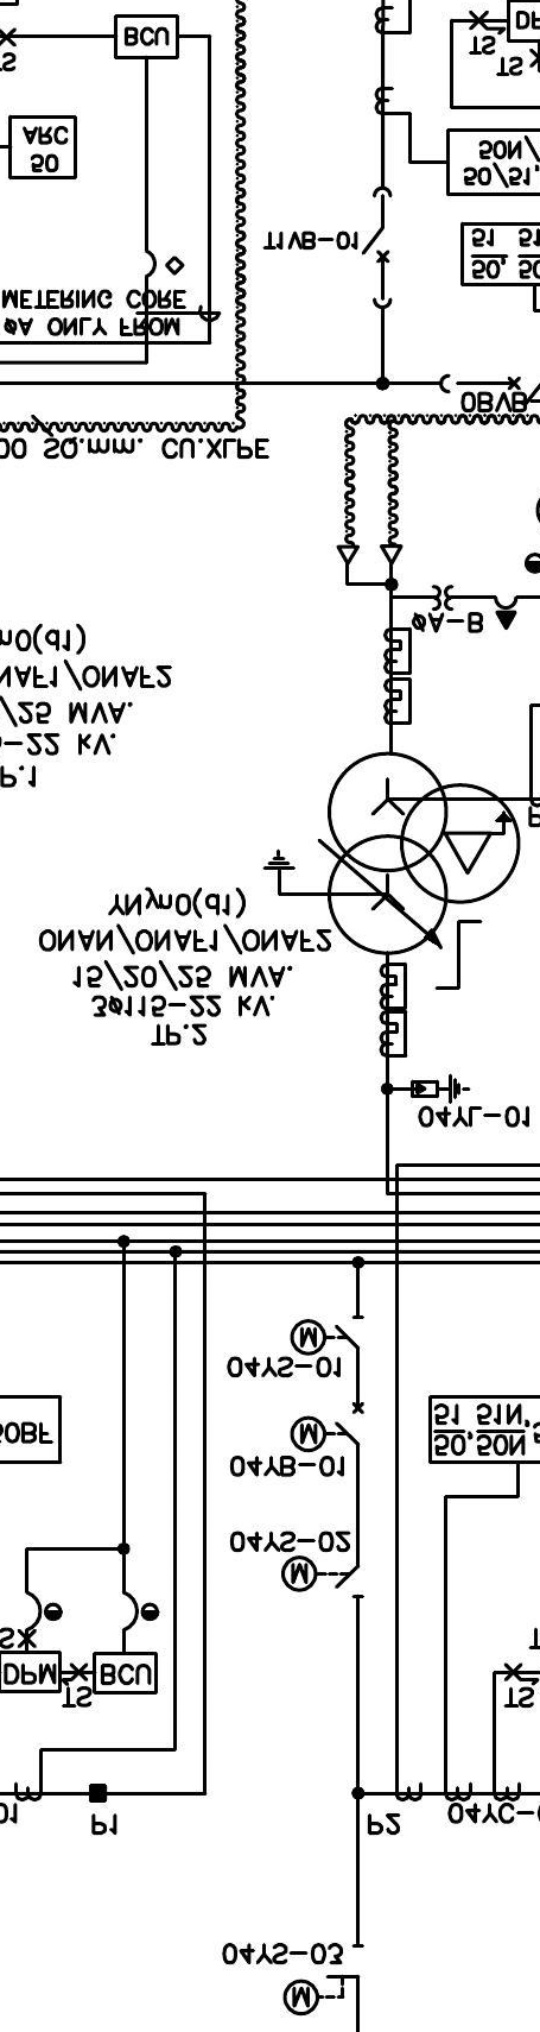11522_tx_ynyn0d1: (326, 750, 522, 956)
115_1way_ds_w_motor: (282, 1944, 364, 2016), (280, 1555, 365, 1599), (289, 1315, 364, 1357)
115_breaker: (334, 1401, 365, 1445)
115_la: (411, 1073, 471, 1105)
22_breaker: (360, 185, 394, 310)
BCU: (113, 13, 180, 60), (92, 1652, 158, 1695)
terminator_double: (335, 544, 404, 587)
